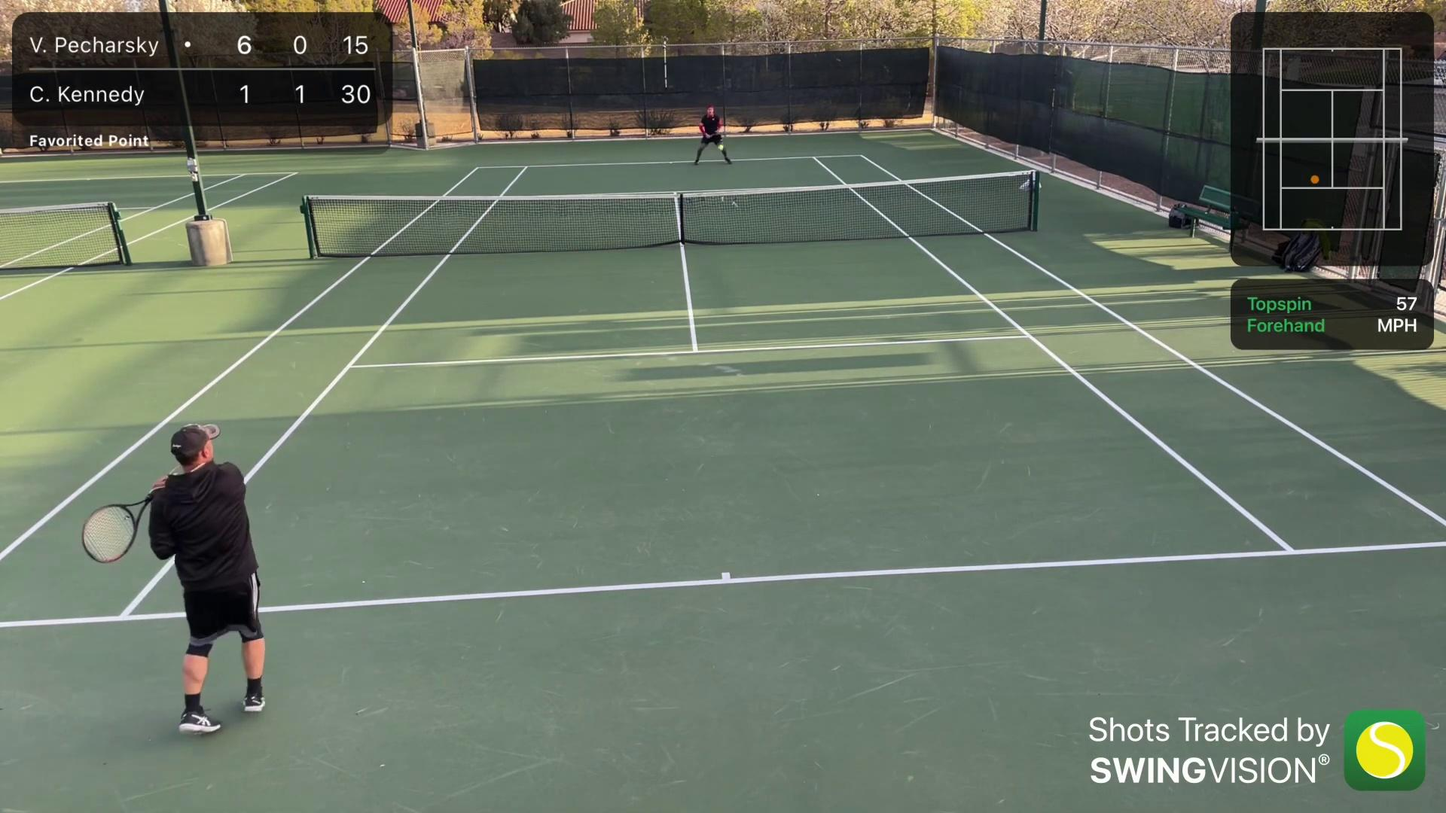ball: (717, 142, 725, 151)
